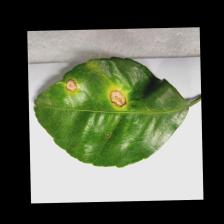canker: (64, 67, 134, 109)
